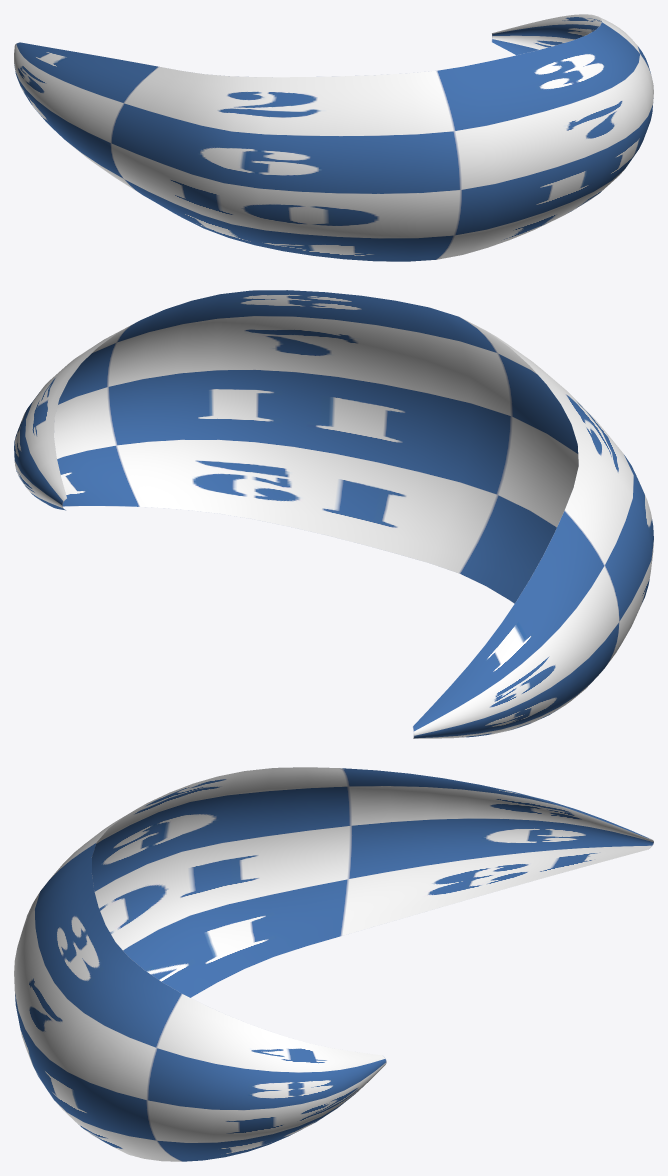
Rendered from Rui_BigWeb3.fbx.
3 views of the same model, one above another, from view 1: azimuth 30°, elevation 25°; view 2: azimuth 150°, elevation 25°; view 3: azimuth 270°, elevation 25° (orthographic). The views are drawn at different scales.
Visible parts, largest first — view 1: SM_e_Plc_P1007_Bigweb003; view 2: SM_e_Plc_P1007_Bigweb003; view 3: SM_e_Plc_P1007_Bigweb003.
Part boxes in pixels (box(x1,y1,x2,y2)): SM_e_Plc_P1007_Bigweb003: box(14, 14, 653, 261); SM_e_Plc_P1007_Bigweb003: box(14, 290, 653, 738); SM_e_Plc_P1007_Bigweb003: box(14, 767, 653, 1161).
Size of the model in its own units: 293 by 108 by 272.
